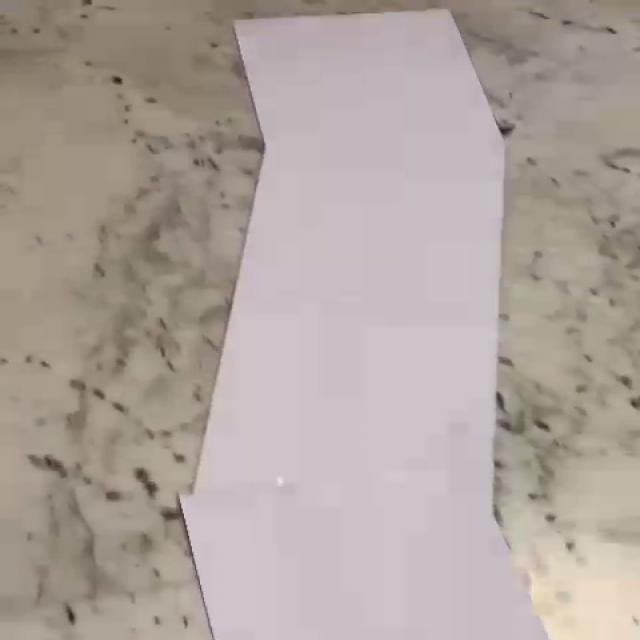road: (181, 9, 548, 640)
